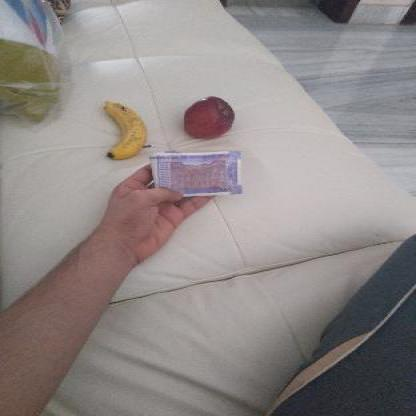New100Back: (151, 153, 244, 195)
